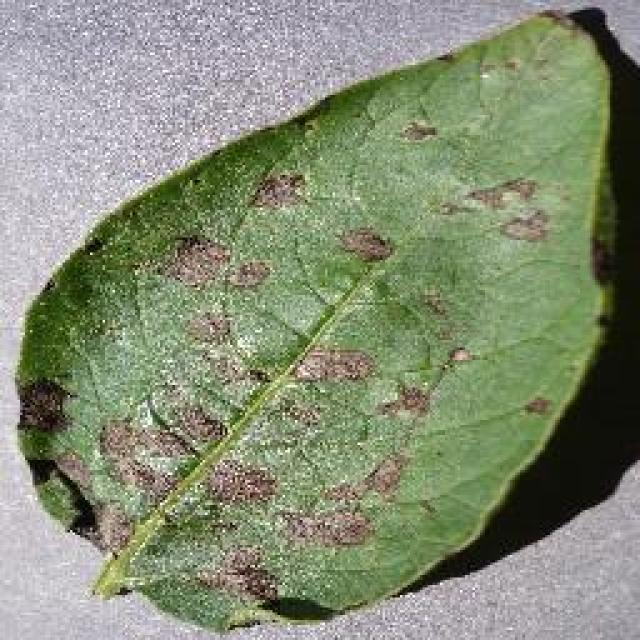early_blight: (10, 5, 620, 635)
